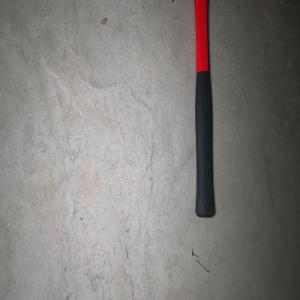Hammer: (170, 0, 228, 219)
